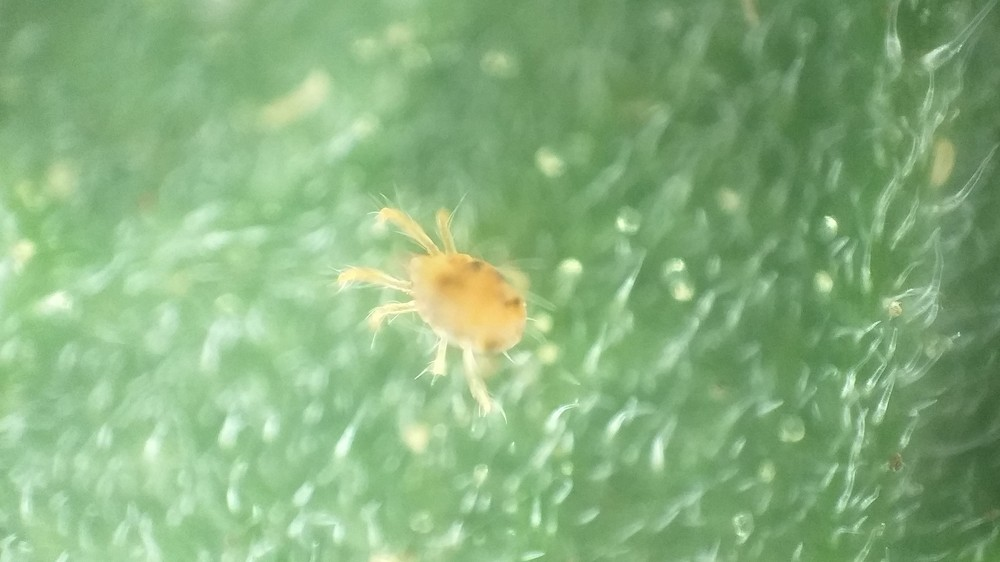Aracnido Rojo: (333, 203, 558, 415)
